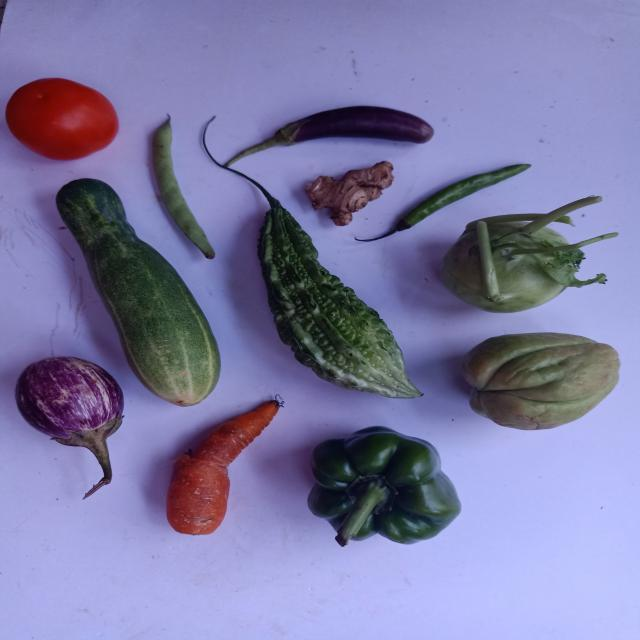Beans: (151, 114, 214, 259)
Bitter Gourd: (202, 125, 420, 398)
Brinjal: (225, 105, 433, 165)
Capsicum: (308, 426, 460, 546)
Carrot: (166, 400, 280, 536)
Chayote: (462, 333, 621, 430)
Cucumber: (55, 178, 220, 407)
Eggplant: (14, 357, 122, 500)
Ginger: (305, 161, 394, 225)
Green Chilly: (355, 164, 531, 242)
Tomato: (4, 77, 118, 159)
Turnip: (442, 196, 607, 312)
